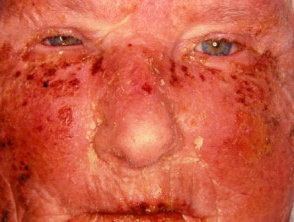SJS-TEN: (0, 34, 289, 221), (54, 183, 216, 221)
